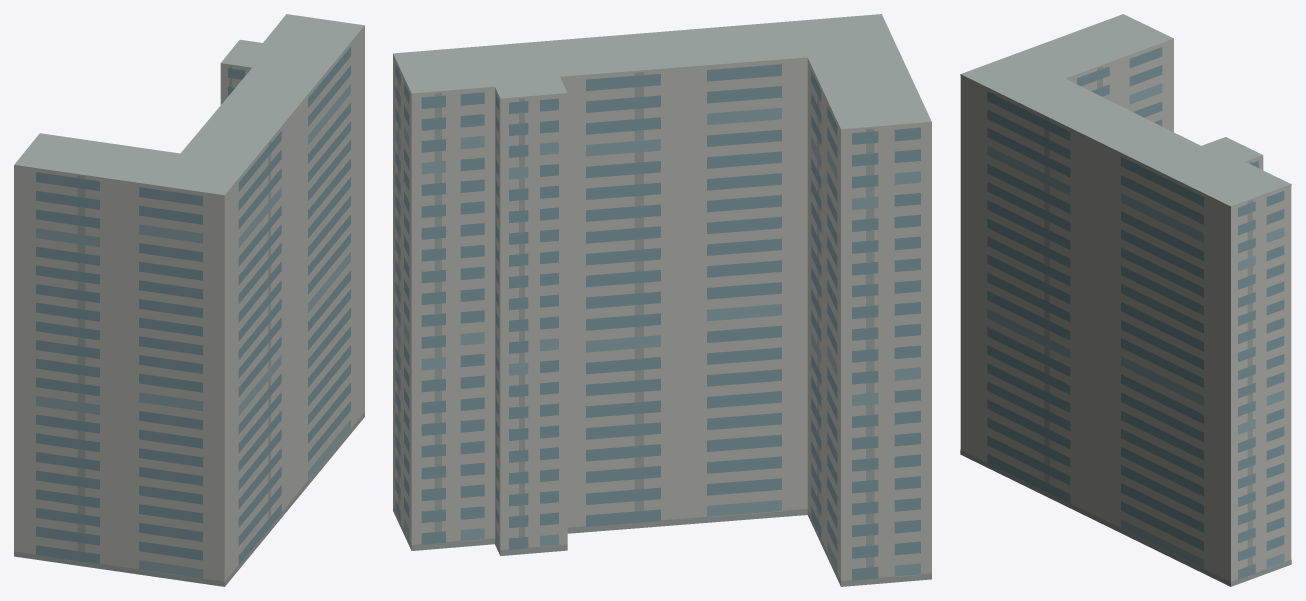
Rendered from residential-84bbe788-9870-439b-b4d1-71cb7f9a12f1.glb.
3 renders of one model, left to right at view 1: azimuth 30°, elevation 25°; view 2: azimuth 150°, elevation 25°; view 3: azimuth 270°, elevation 25°, orthographic. The views are drawn at different scales.
Visible parts, largest first — view 1: residential-84bbe788-9870-439b-b4d1-71cb7f9a12f1.tmp; view 2: residential-84bbe788-9870-439b-b4d1-71cb7f9a12f1.tmp; view 3: residential-84bbe788-9870-439b-b4d1-71cb7f9a12f1.tmp.
Boxes of the visible parts, bbox=[...] form: residential-84bbe788-9870-439b-b4d1-71cb7f9a12f1.tmp: bbox=[14, 14, 364, 586]; residential-84bbe788-9870-439b-b4d1-71cb7f9a12f1.tmp: bbox=[393, 14, 931, 586]; residential-84bbe788-9870-439b-b4d1-71cb7f9a12f1.tmp: bbox=[960, 14, 1291, 586].
Bounding box in the file's own units: 69.49 × 64.05 × 50.5.
